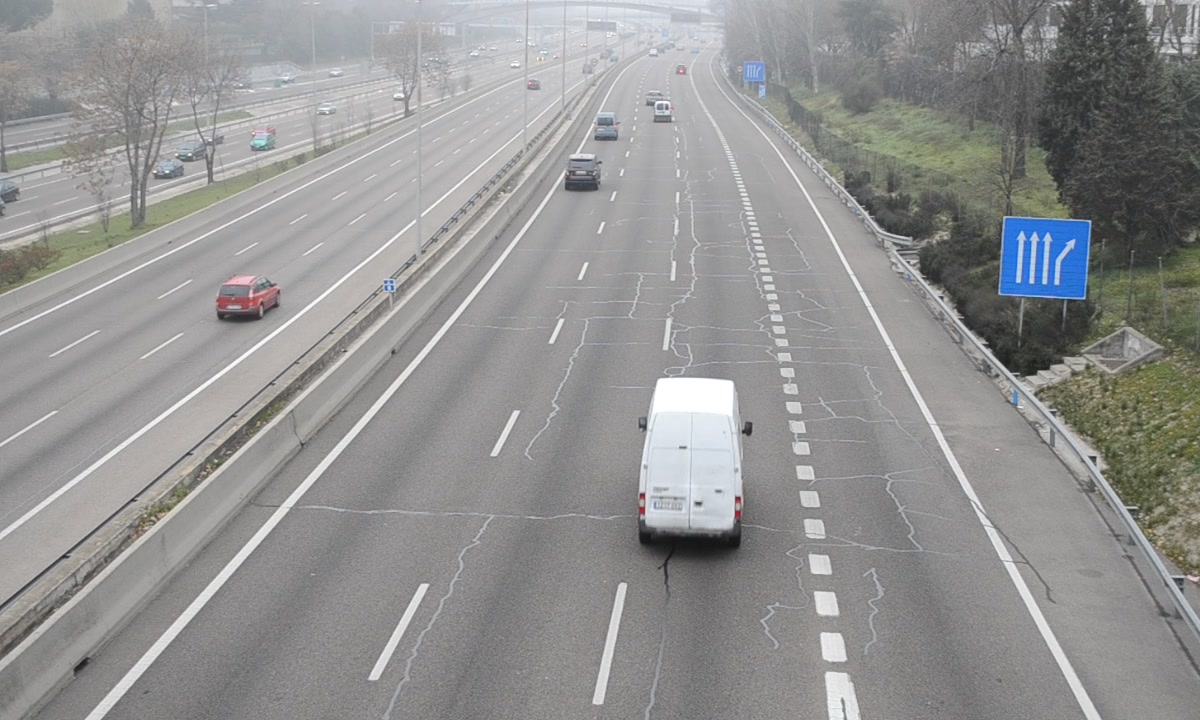car: (565, 153, 602, 192)
van: (638, 379, 740, 546), (594, 112, 619, 140)
